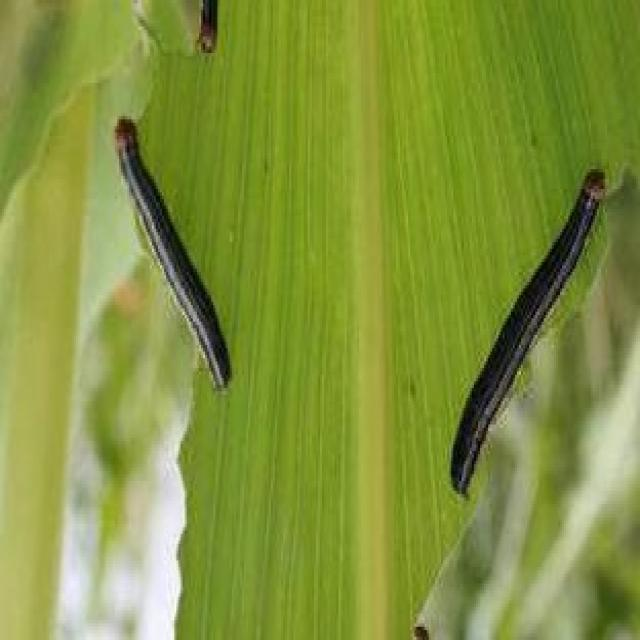army worm: (448, 160, 612, 505), (108, 109, 235, 404), (194, 1, 227, 61)
